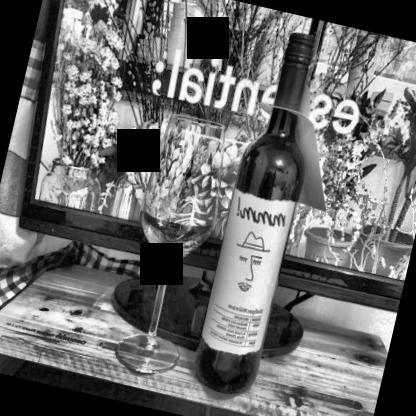umm: (198, 188, 296, 362)
